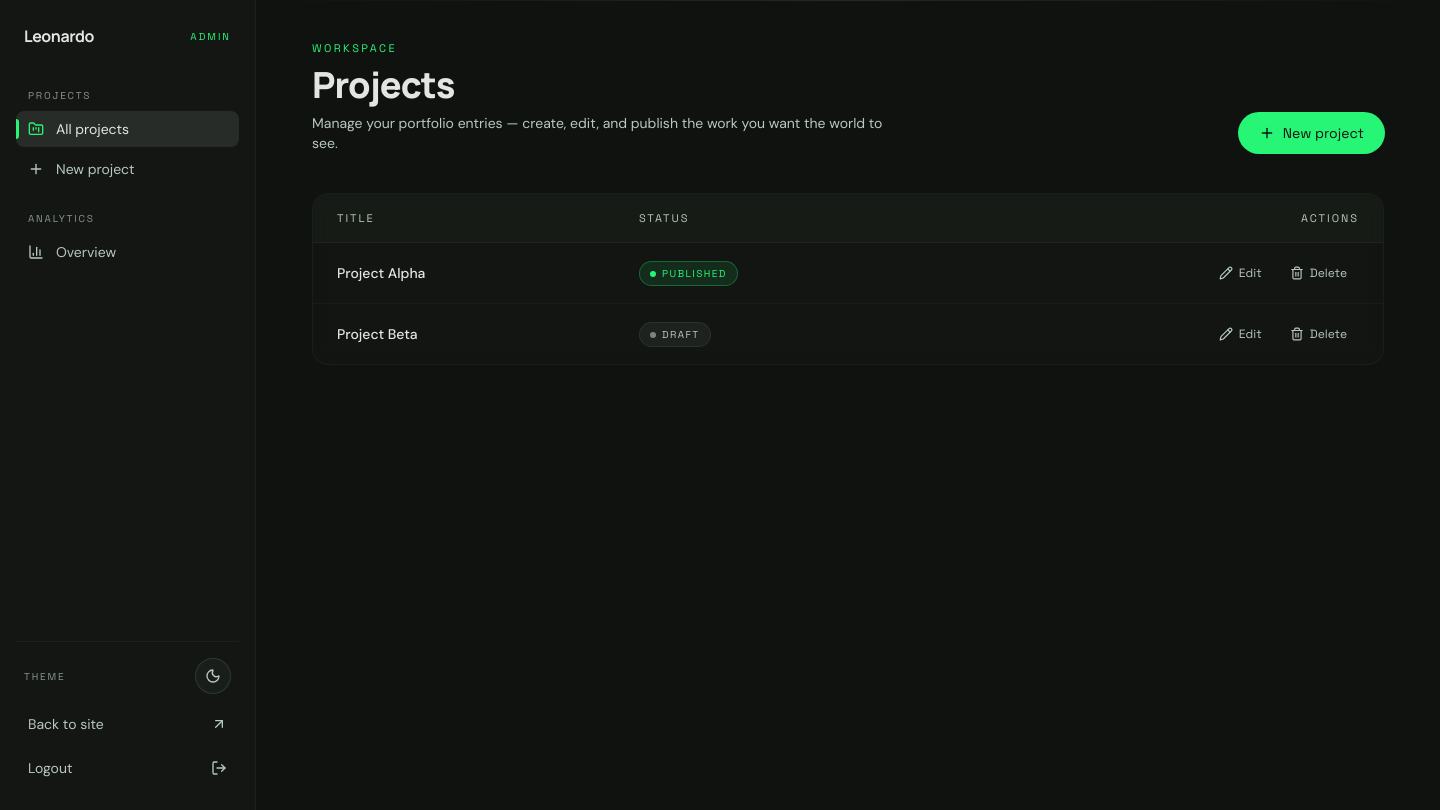
Test: ProjectsListPage › shows confirm dialog when delete is clicked
Check: the text "Project Alpha" is shown, box [313,242,615,304]
What coordinates should you click on to do the following:
click the button "Delete" in the row of "Project Alpha"
I would click on:
 (1318, 273)
Its box is [1278,259,1359,287].
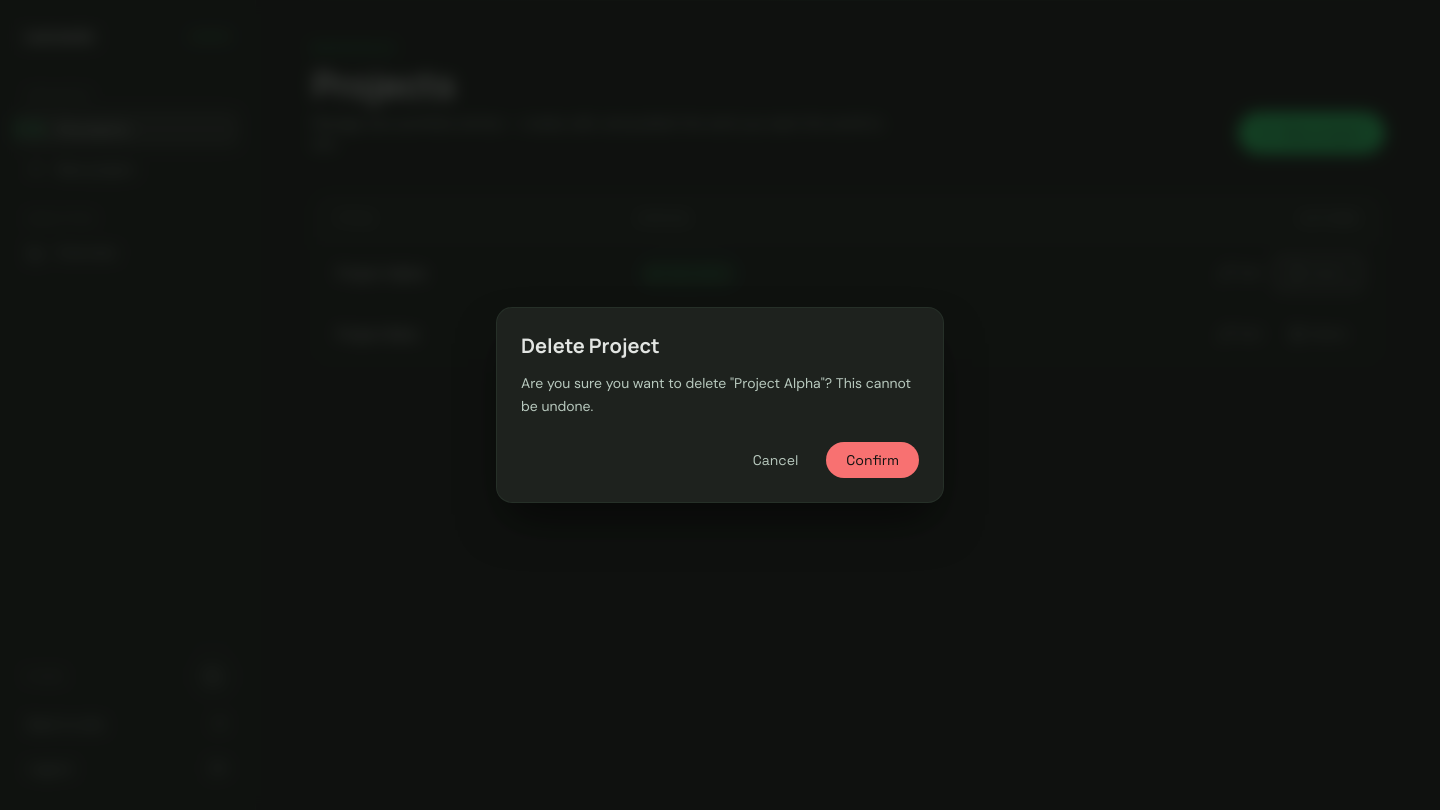
Check: the text "Are you sure you want to delete" is shown, box [521,374,911,415]
